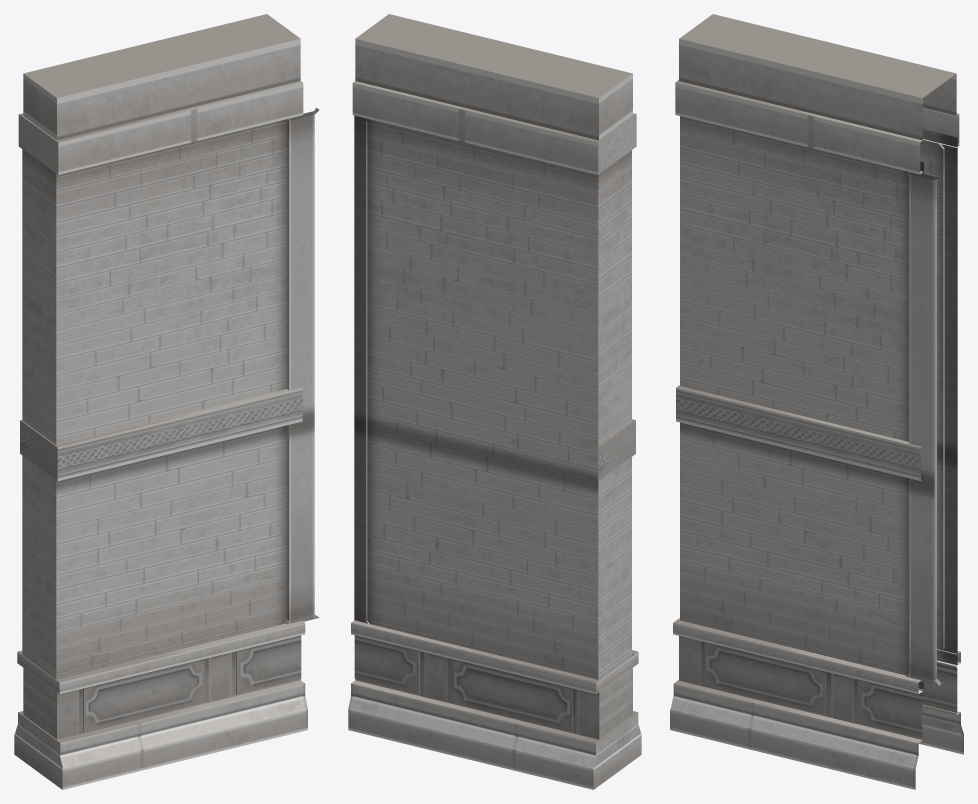
The model's file is Stage01_One_Wall.fbx.
The picture shows the model from 3 angles, left to right: view 1: azimuth 30°, elevation 25°; view 2: azimuth 150°, elevation 25°; view 3: azimuth 330°, elevation 25°; orthographic projection.
Parts seen in each view (by area): view 1: S1_mod_wall_yw003; view 2: S1_mod_wall_yw003; view 3: S1_mod_wall_yw003.
Part boxes in pixels (<box>): S1_mod_wall_yw003: <box>14,14,318,789</box>; S1_mod_wall_yw003: <box>348,14,641,789</box>; S1_mod_wall_yw003: <box>670,14,963,789</box>.
Bounding box in the file's own units: 527 × 1314 × 167.
